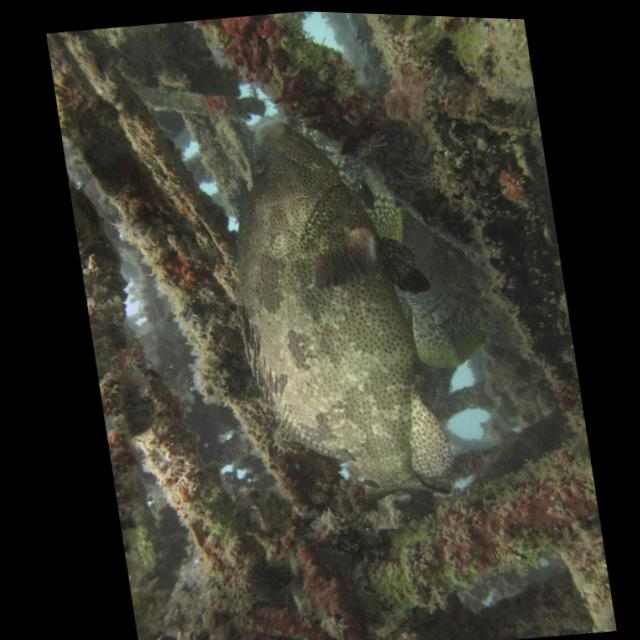Groupers: (210, 100, 463, 543)
